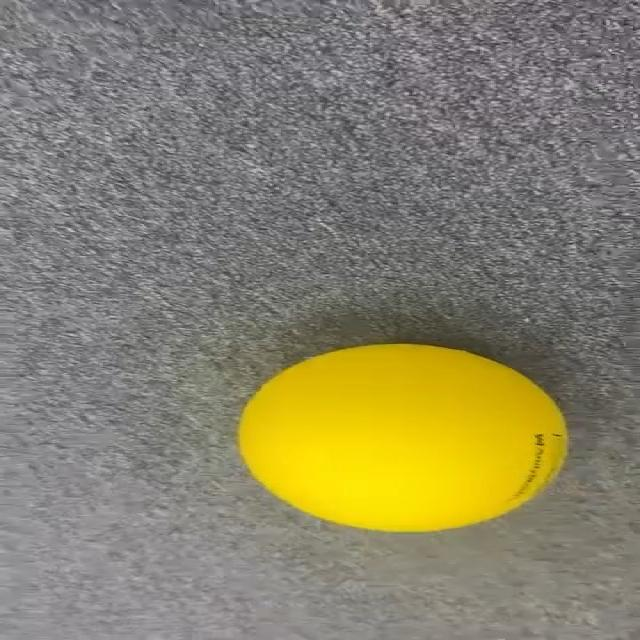Fuels: (240, 344, 564, 531)
